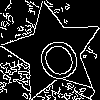O: (28, 27, 86, 86)
